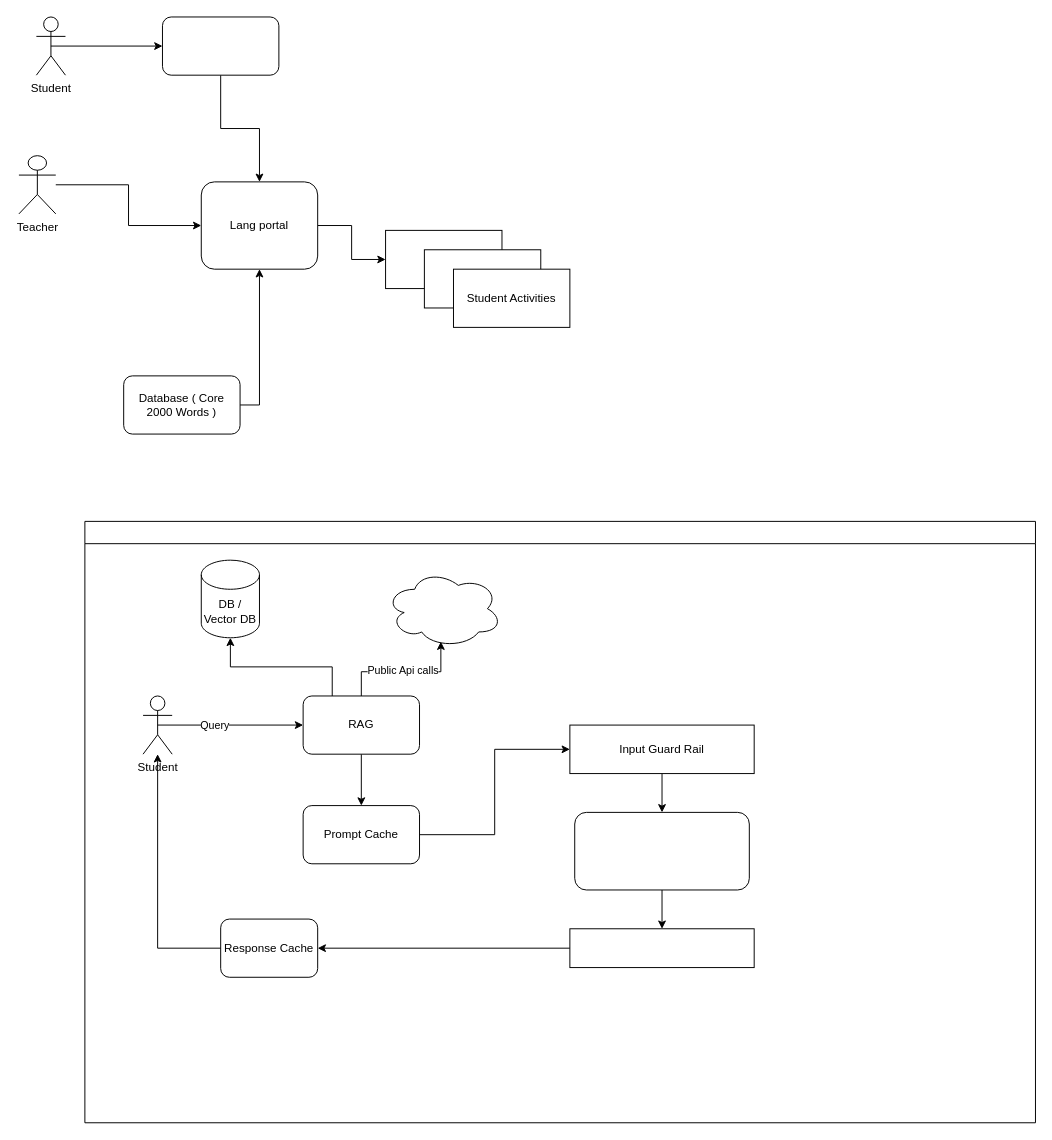
Image size: 1052x1140. Some labels were removed from this diagram. Here are the shapes that lost their labels. From the top down, the box of each, then its label:
(162, 16, 279, 75): Payment Gateway
(385, 569, 502, 647): Inernet
(84, 520, 1035, 1123): Study Activity ( Sentence Constructor )
(574, 811, 749, 890): LLM ( 50 Bln Params )
(569, 928, 754, 968): Output guard rail
